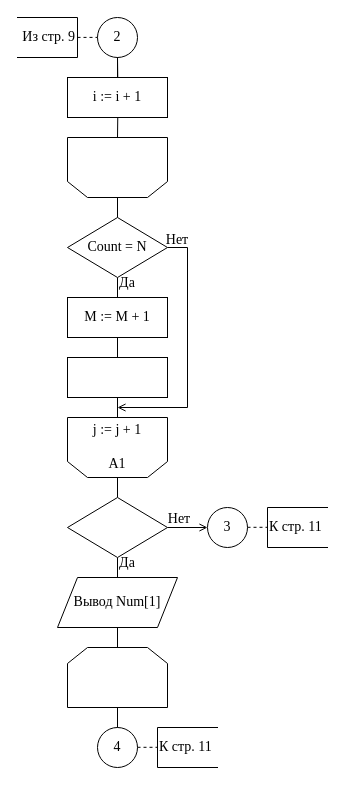
Some shapes in this 345 by 785 pixel diagram are drawn without their labels. The centre of each missing label's shape, as x and y in pixels:
"A2" belongs at pixel 117 167.
"A4 i := 2, i <= M" belongs at pixel 117 677.
"M > 0" belongs at pixel 117 527.
"Num[M] := X[1,j]" belongs at pixel 117 377.
